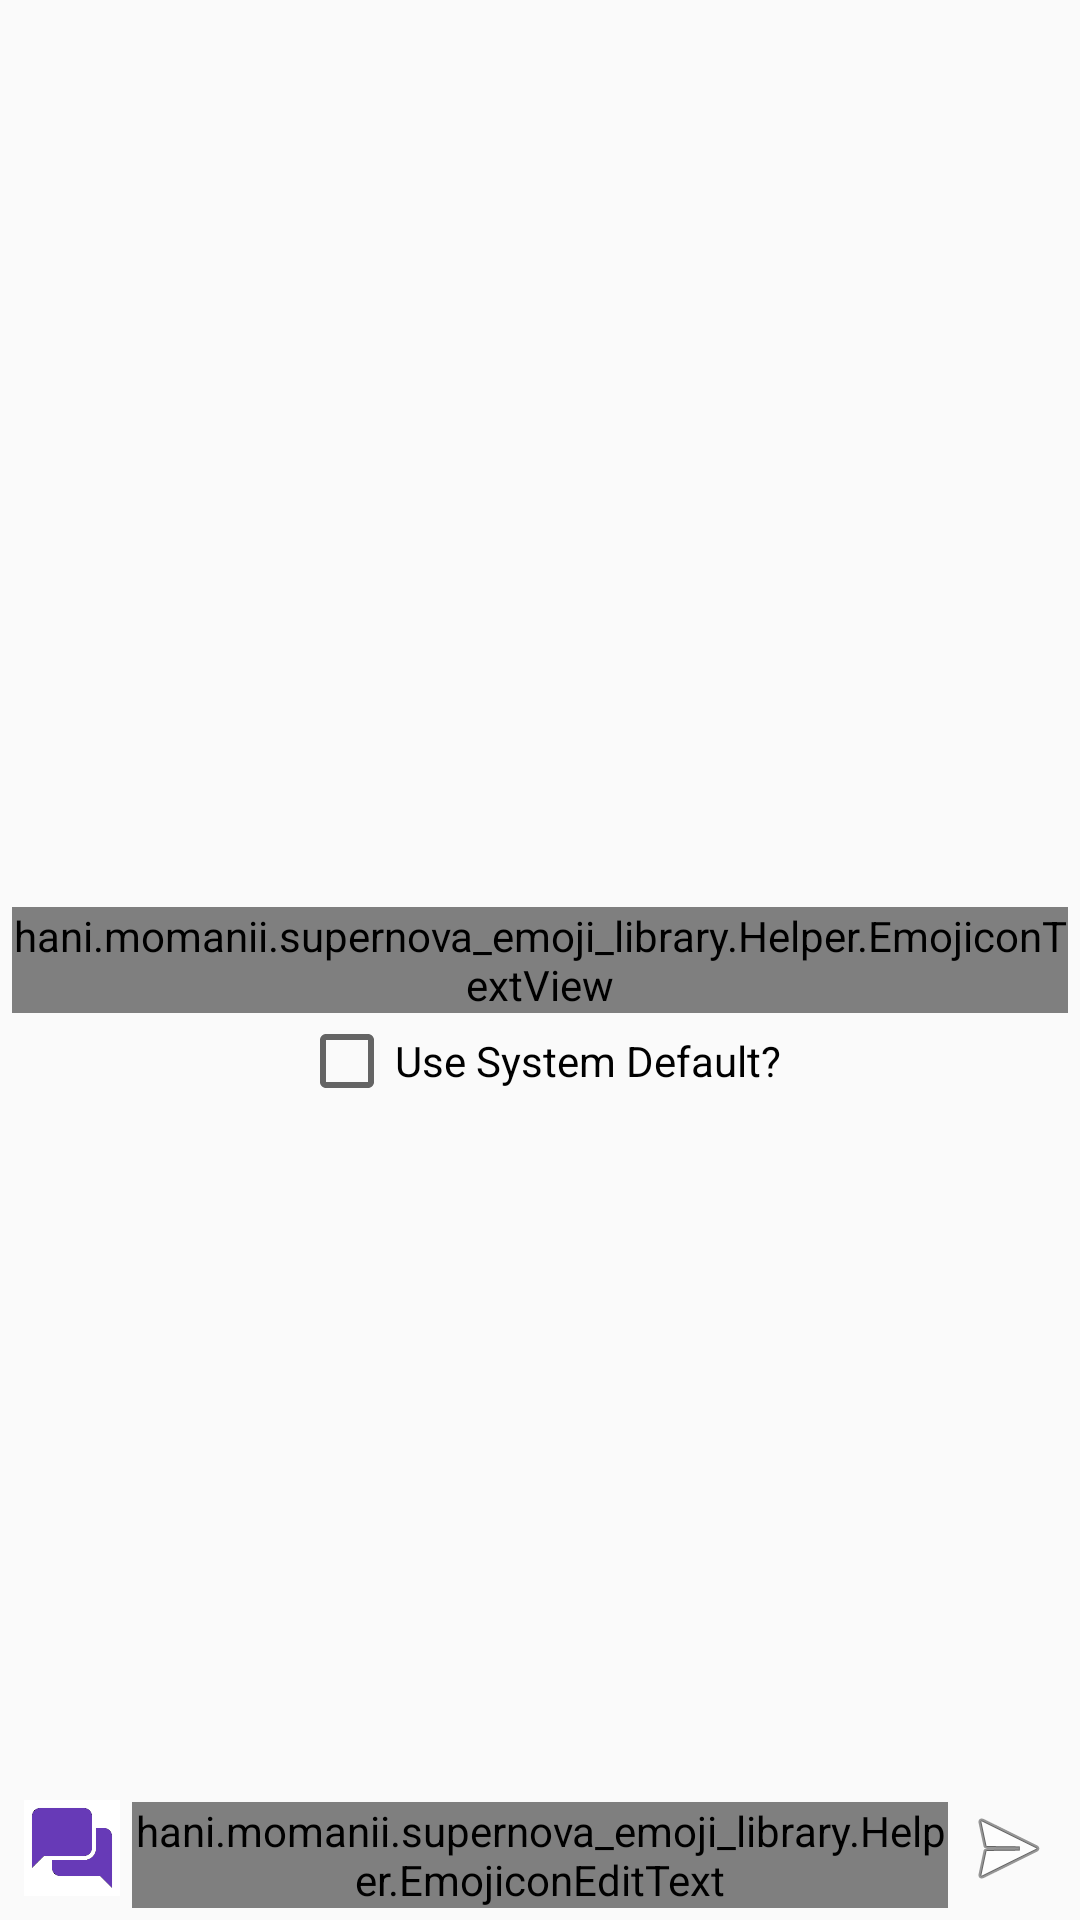

Icons on this 1080px x 1920px Android screen, each with its box as bbox=(x1, y1, x2, y2):
send: bbox=(978, 1818, 1040, 1879)
